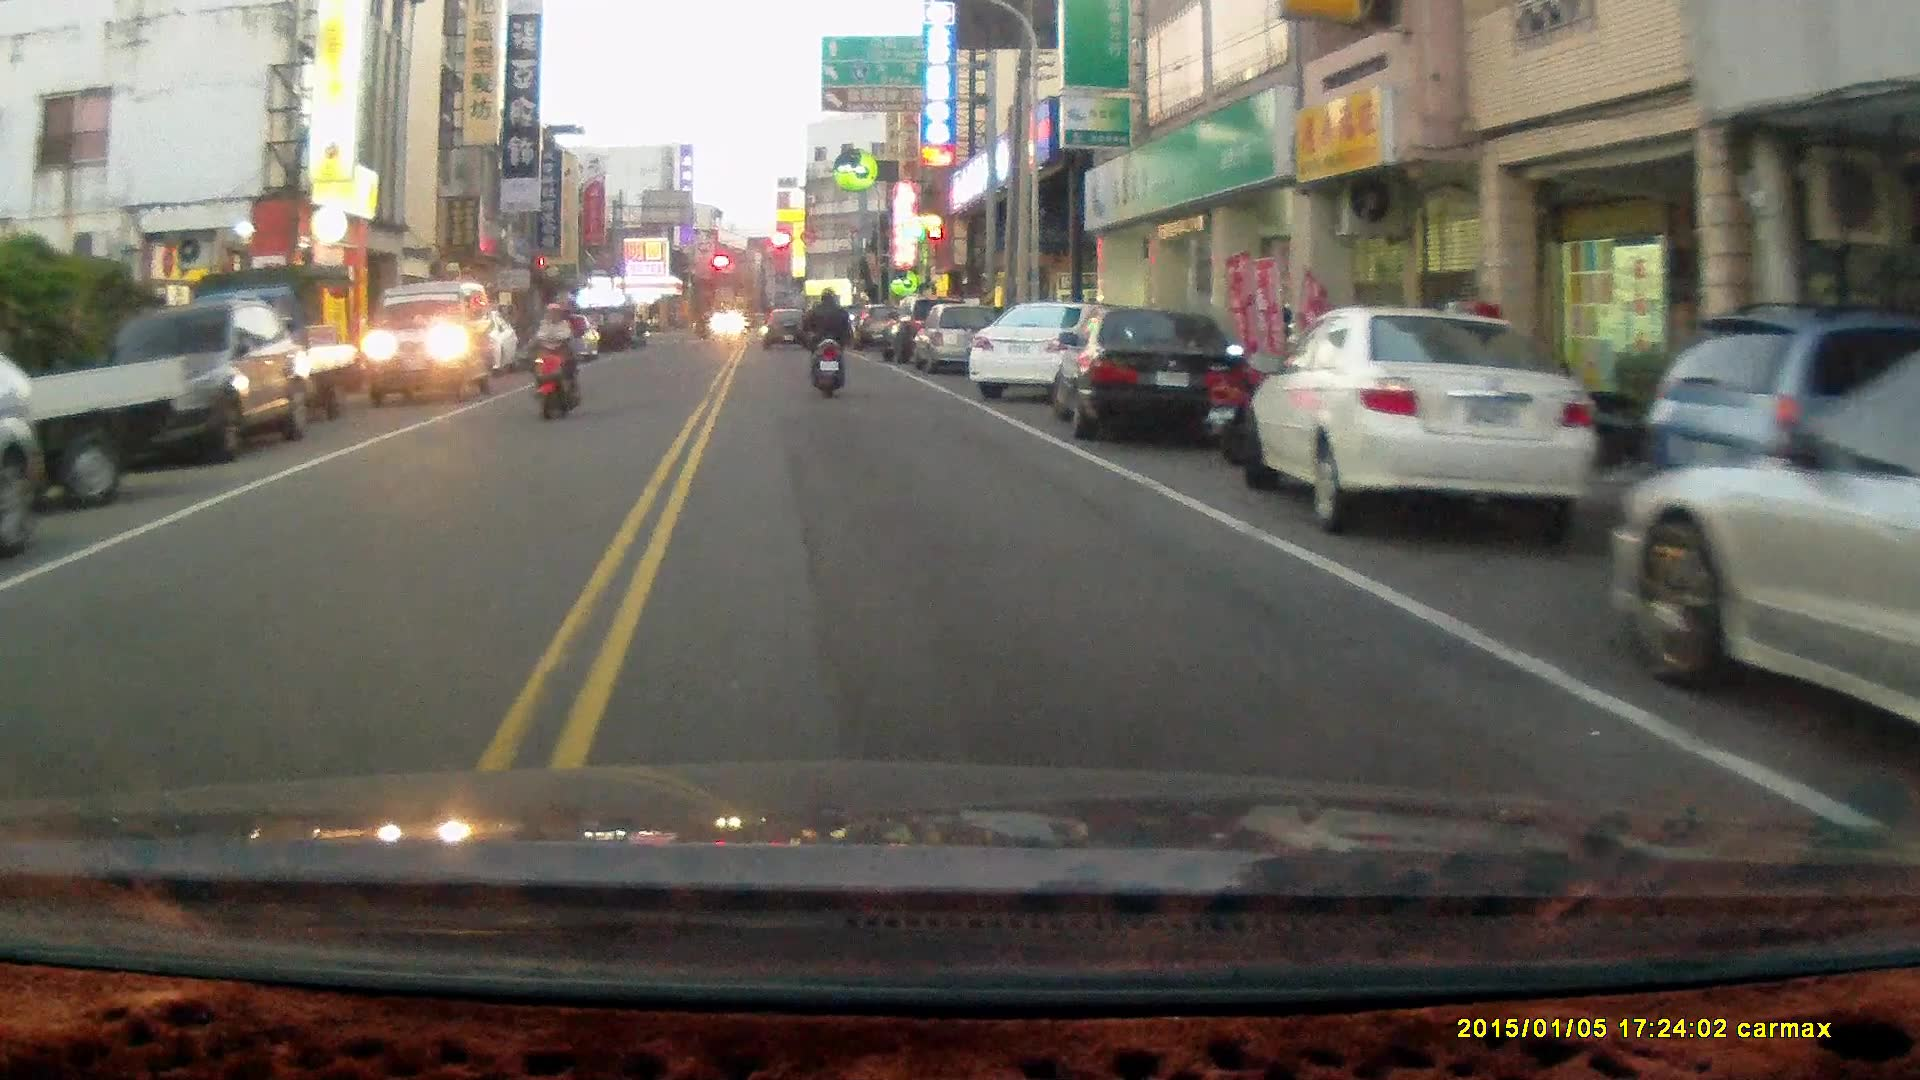rider: (535, 284, 589, 418), (803, 286, 849, 403)
vehicle: (1618, 358, 1920, 754), (1235, 305, 1593, 532), (94, 294, 311, 470), (172, 258, 367, 427), (1052, 304, 1246, 449), (969, 297, 1148, 402), (364, 281, 503, 409), (912, 300, 1012, 377)
